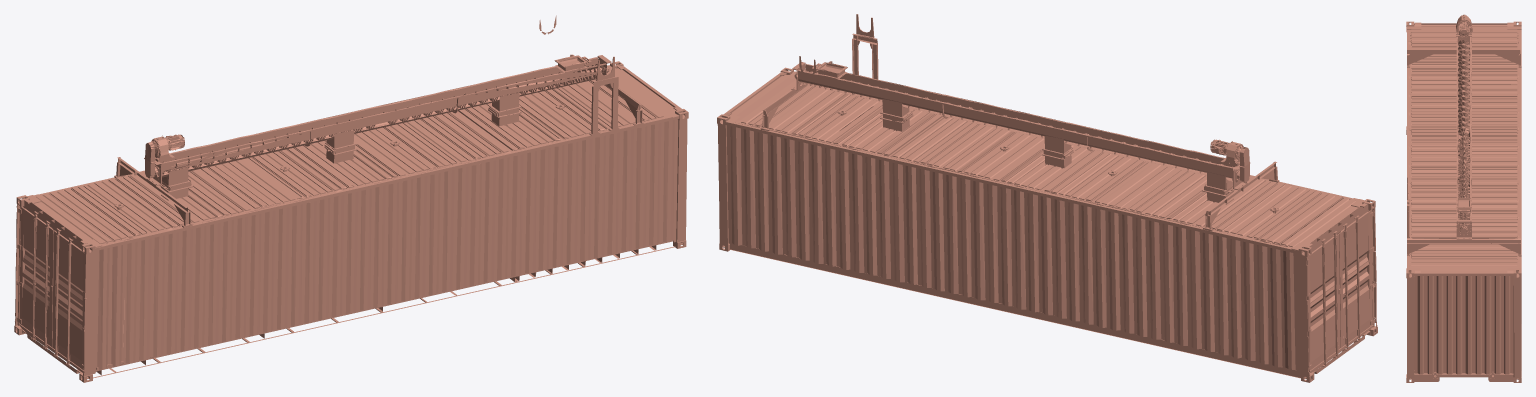
The model's file is reactor_candidate_3.glb.
3 renders of one model, left to right at view 1: azimuth 30°, elevation 25°; view 2: azimuth 150°, elevation 25°; view 3: azimuth 270°, elevation 25°, orthographic. The views are drawn at different scales.
Parts seen in each view (by area): view 1: world; view 2: world; view 3: world.
Part boxes in pixels (x1,y1,x2,y2): world: (14, 15, 688, 382); world: (717, 14, 1377, 382); world: (1406, 14, 1521, 382).
Bounding box in the file's own units: 12.28 × 4.01 × 2.44.
